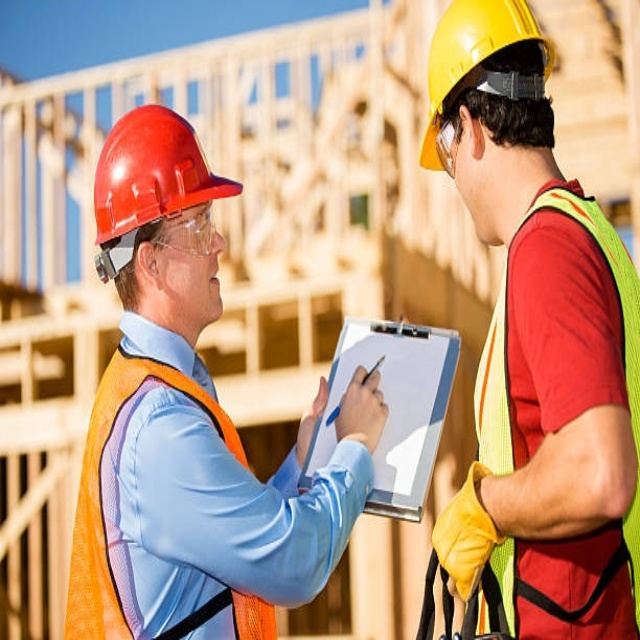Gafas: (151, 205, 218, 256), (438, 105, 461, 182)
Guantes: (430, 462, 508, 604)
Sin_guantes: (332, 362, 392, 453), (290, 372, 328, 469)
Sin_mascara: (193, 257, 223, 322)
